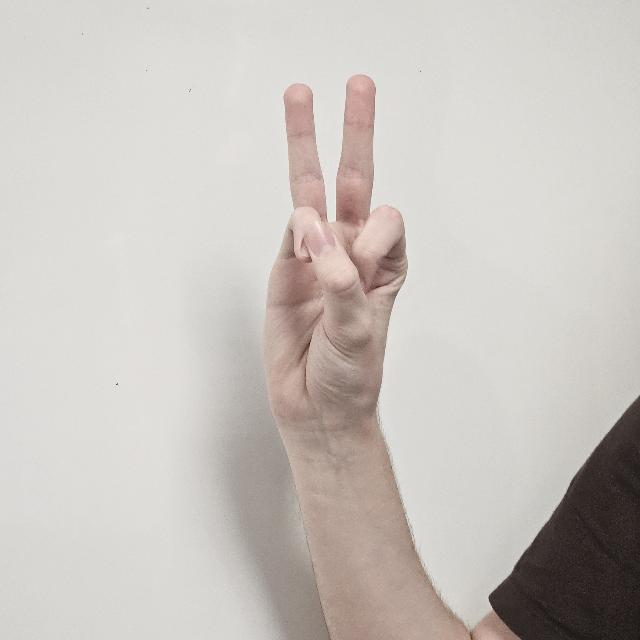R: (268, 70, 407, 472)
